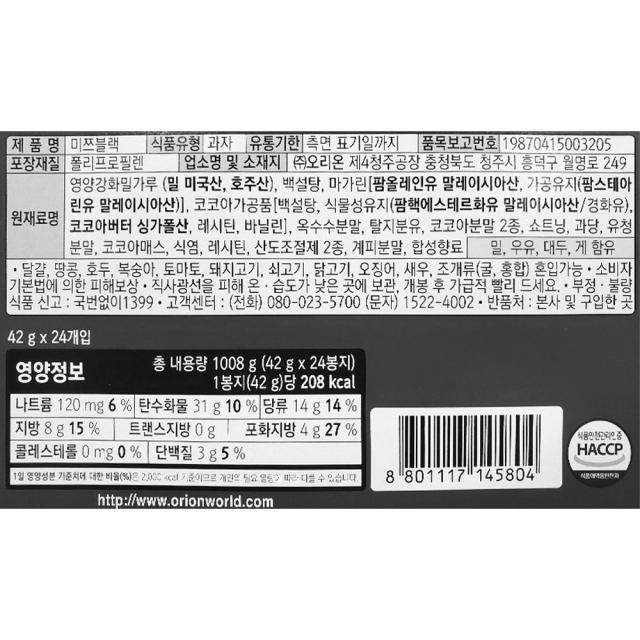Nutrition Label: (0, 342, 373, 498)
